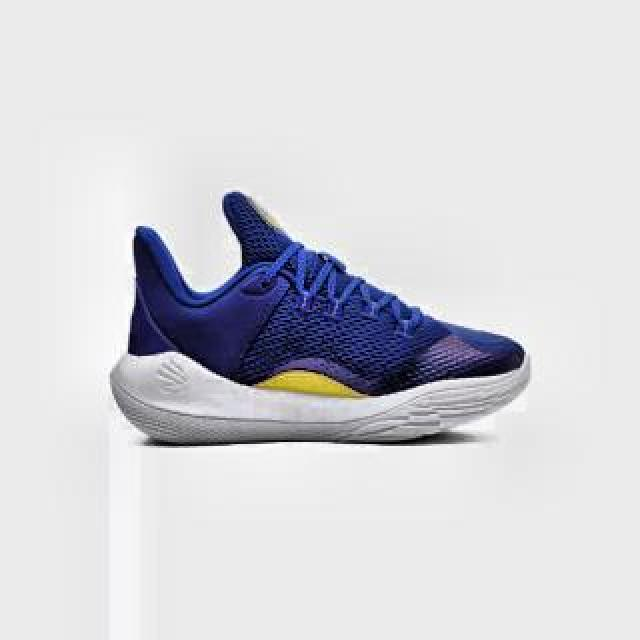shoe: (110, 190, 532, 442)
